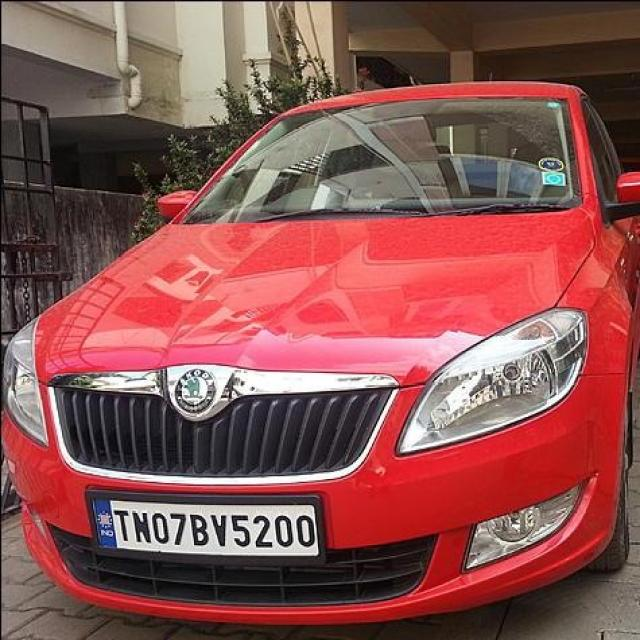license-plate: (88, 494, 319, 558)
